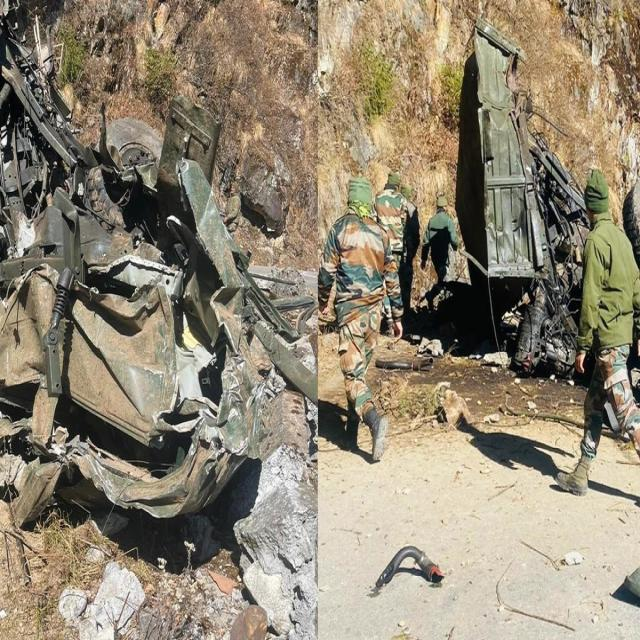accident: (0, 3, 316, 525), (455, 20, 589, 373)
